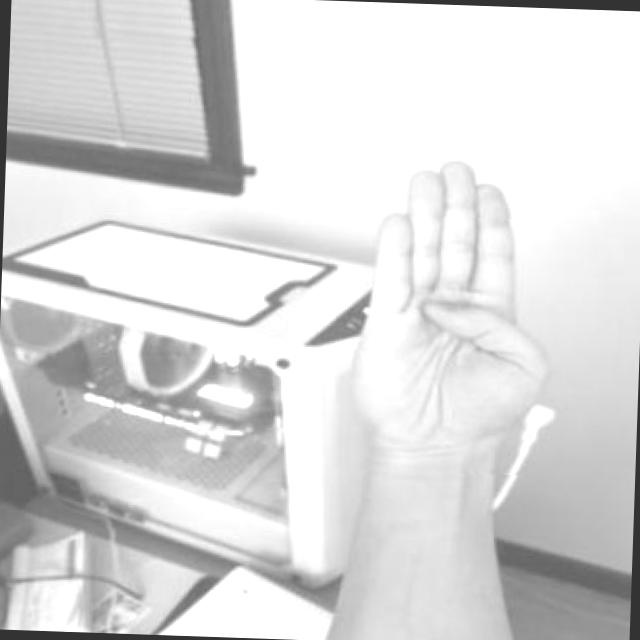B: (330, 144, 576, 477)
